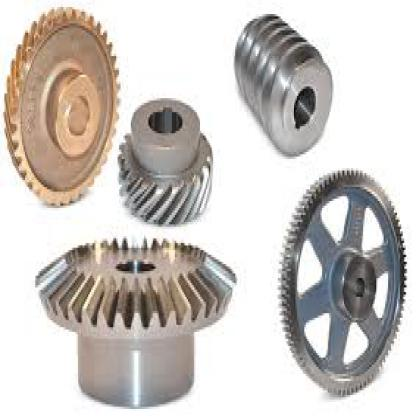FOD: (31, 230, 245, 413), (271, 159, 410, 409), (6, 8, 125, 212), (118, 98, 220, 229)
